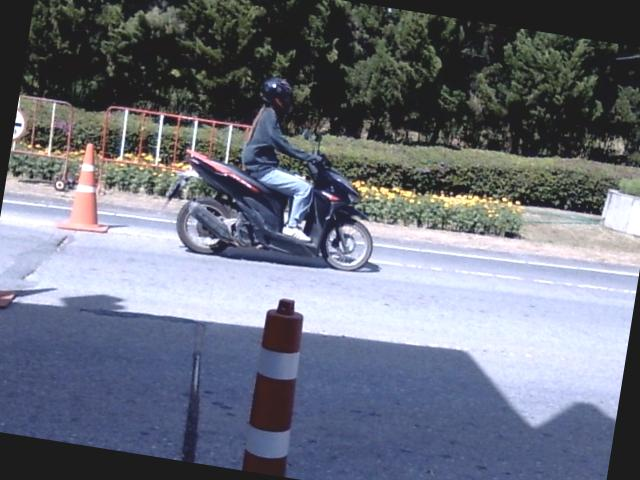helmet: (259, 74, 293, 114)
motor: (167, 150, 371, 270)
person: (241, 77, 324, 241)
